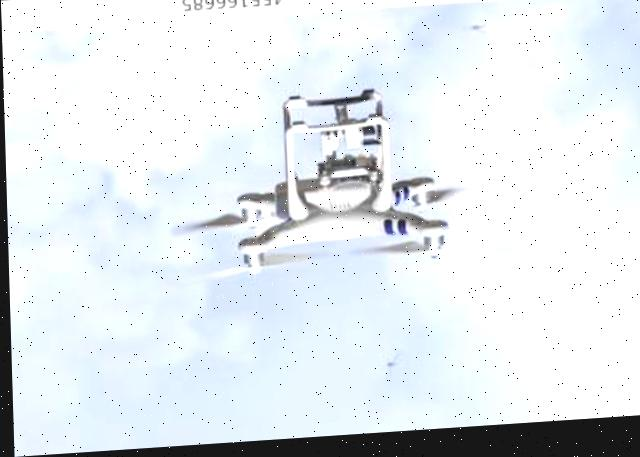drone: (155, 73, 495, 313)
